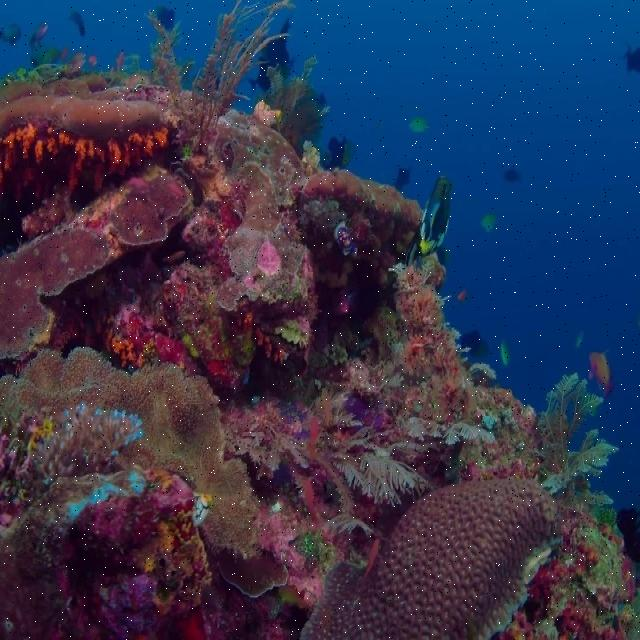aquatic plants: (230, 389, 491, 572), (542, 368, 619, 521)
fish: (419, 174, 452, 251)
reefs: (0, 100, 421, 400), (300, 479, 561, 639), (0, 470, 211, 639), (0, 64, 170, 194), (34, 403, 143, 485)
